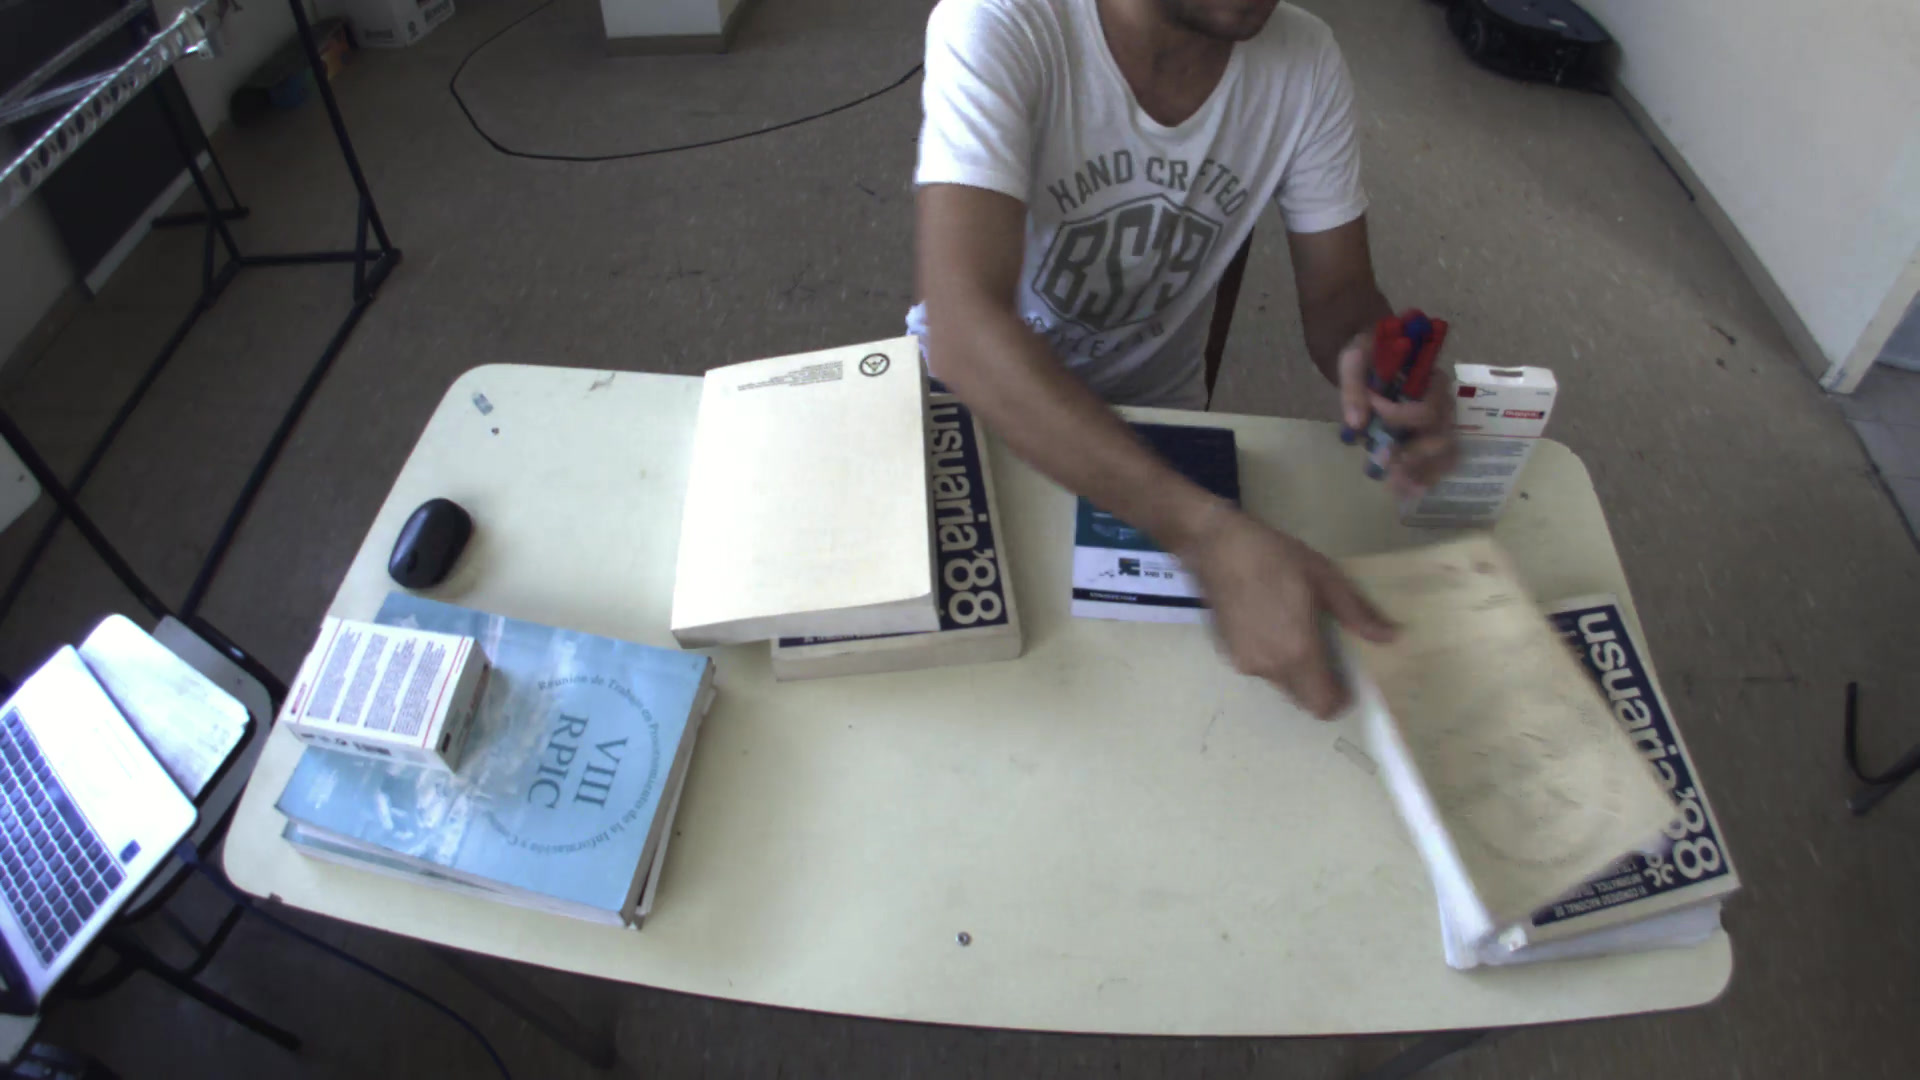hand: (1192, 524, 1422, 717), (1335, 311, 1480, 506)
